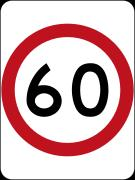Speed Limit -60-: (12, 39, 126, 147)
